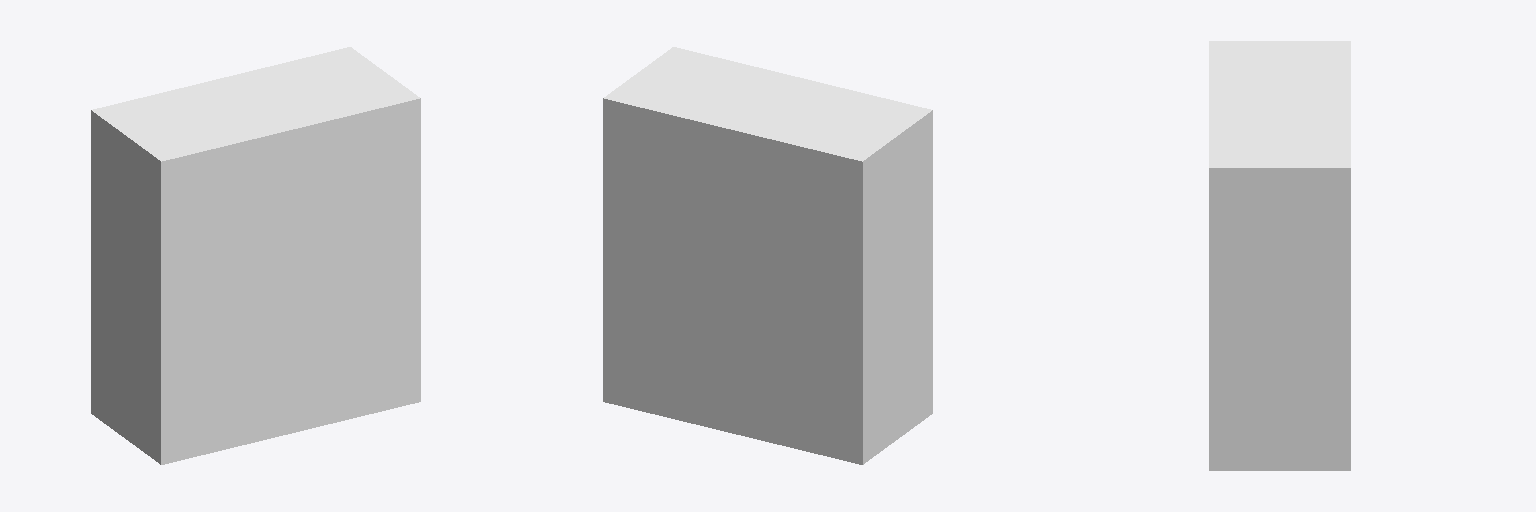
File: gglive_wall.obj
3 views of the same model, side by side, from view 1: azimuth 30°, elevation 25°; view 2: azimuth 150°, elevation 25°; view 3: azimuth 270°, elevation 25° (orthographic).
Parts seen in each view (by area): view 1: gglive_wall; view 2: gglive_wall; view 3: gglive_wall.
Boxes of the visible parts, <box> form: gglive_wall: <box>91,47,420,464</box>; gglive_wall: <box>603,47,932,464</box>; gglive_wall: <box>1209,41,1350,470</box>.
Size of the model in its own units: 17 by 19 by 8.